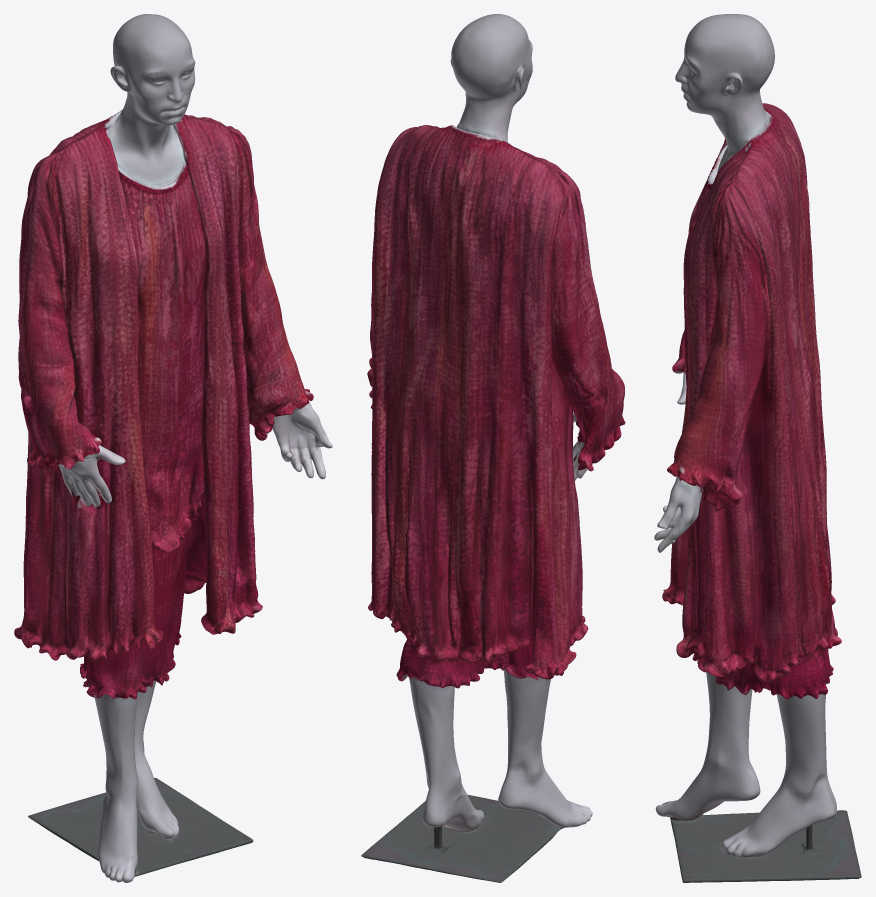
File: 2012.08.026abcde.glb
The picture shows the model from 3 angles, left to right: view 1: azimuth 30°, elevation 25°; view 2: azimuth 150°, elevation 25°; view 3: azimuth 270°, elevation 25°; orthographic projection. The views are drawn at different scales.
Parts seen in each view (by area): view 1: tripo_node_8bd2820a-65a8-4b12-94e1-49f8be01f7c2; view 2: tripo_node_8bd2820a-65a8-4b12-94e1-49f8be01f7c2; view 3: tripo_node_8bd2820a-65a8-4b12-94e1-49f8be01f7c2.
Boxes of the visible parts, left/top/right/bottom form: tripo_node_8bd2820a-65a8-4b12-94e1-49f8be01f7c2: left=14, top=14, right=332, bottom=882; tripo_node_8bd2820a-65a8-4b12-94e1-49f8be01f7c2: left=361, top=14, right=625, bottom=882; tripo_node_8bd2820a-65a8-4b12-94e1-49f8be01f7c2: left=654, top=14, right=861, bottom=882.
Bounding box in the file's own units: 0.3321 × 0.9792 × 0.2218.
Materials: 1 (1 with a texture image).
